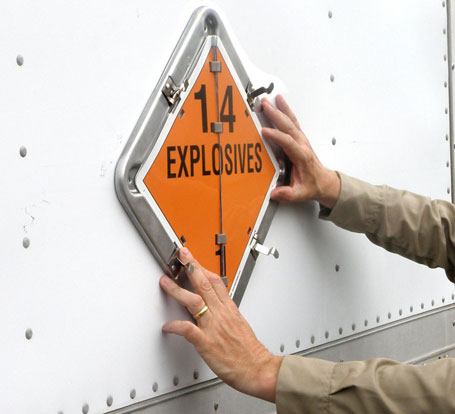Explosive: (147, 40, 279, 280)
